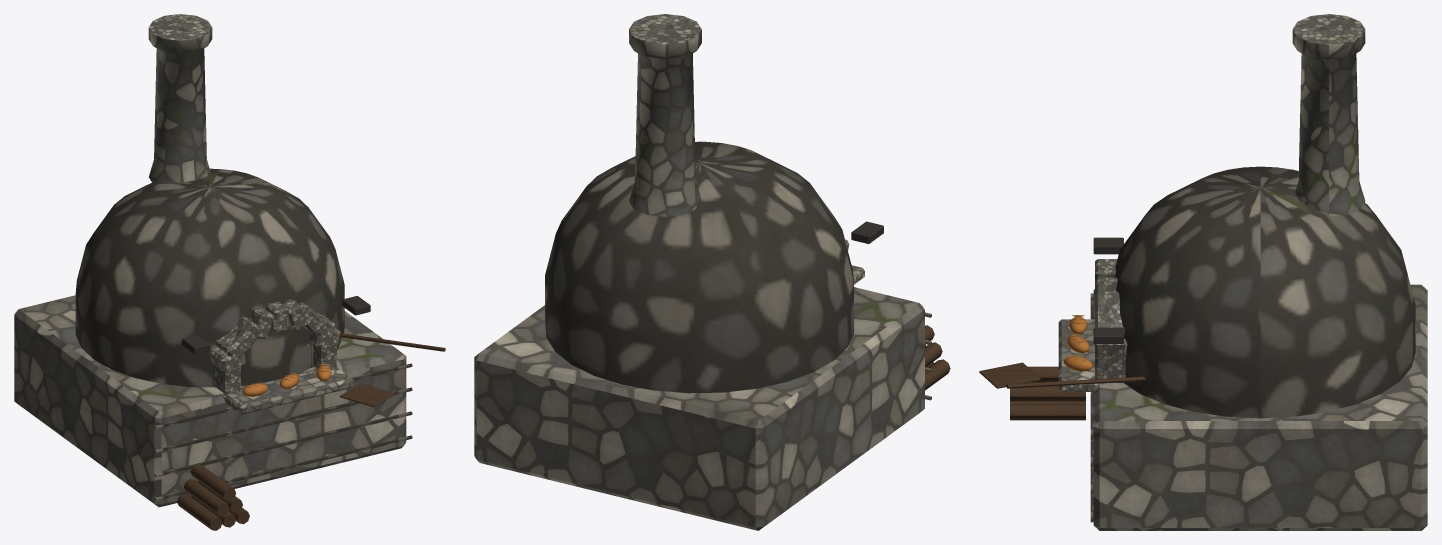
Rendered from bakery_oven.glb.
3 renders of one model, left to right at view 1: azimuth 30°, elevation 25°; view 2: azimuth 150°, elevation 25°; view 3: azimuth 270°, elevation 25°, orthographic. The views are drawn at different scales.
Visible parts, largest first — view 1: bakery_oven; view 2: bakery_oven; view 3: bakery_oven.
Part boxes in pixels (<box>): bakery_oven: <box>14,14,445,530</box>; bakery_oven: <box>474,14,950,530</box>; bakery_oven: <box>979,14,1427,530</box>.
Size of the model in its own units: 2.24 by 3.15 by 2.95.
1 material, 1 textured.
